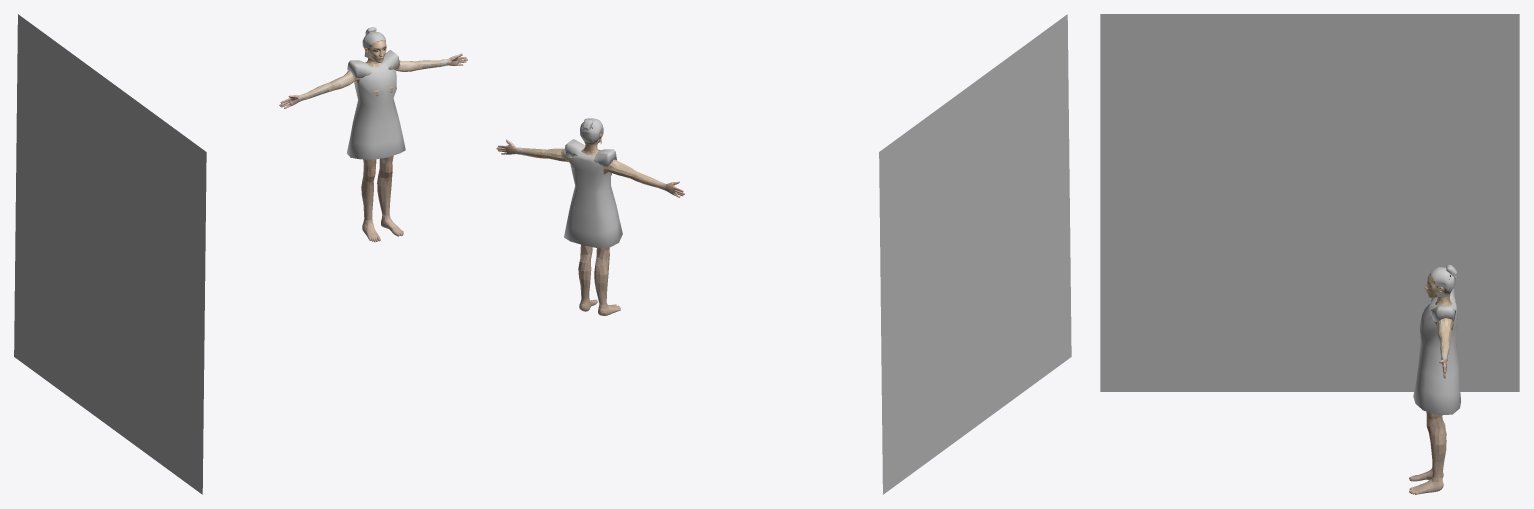
The model's file is tara model.fbx.
The picture shows the model from 3 angles, left to right: view 1: azimuth 30°, elevation 25°; view 2: azimuth 150°, elevation 25°; view 3: azimuth 270°, elevation 25°; orthographic projection. The views are drawn at different scales.
Visible parts, largest first — view 1: pPlane2, polySurface50, polySurface27, polySurface40; view 2: pPlane2, polySurface50, polySurface27, polySurface40; view 3: pPlane2, polySurface50, polySurface27, polySurface40, polySurface45.
Part boxes in pixels (x1,y1,x2,y2): pPlane2: (14,14,206,494); polySurface50: (287,50,446,159); polySurface27: (279,40,467,242); polySurface40: (280,41,465,240); pPlane2: (879,14,1071,494); polySurface50: (519,139,677,247); polySurface27: (496,126,684,315); polySurface40: (497,134,681,312); pPlane2: (1100,14,1519,391); polySurface50: (1413,288,1460,415); polySurface27: (1409,273,1454,494); polySurface40: (1410,277,1451,493); polySurface45: (1430,264,1456,293).
Size of the model in its own units: 399 by 310 by 310.
